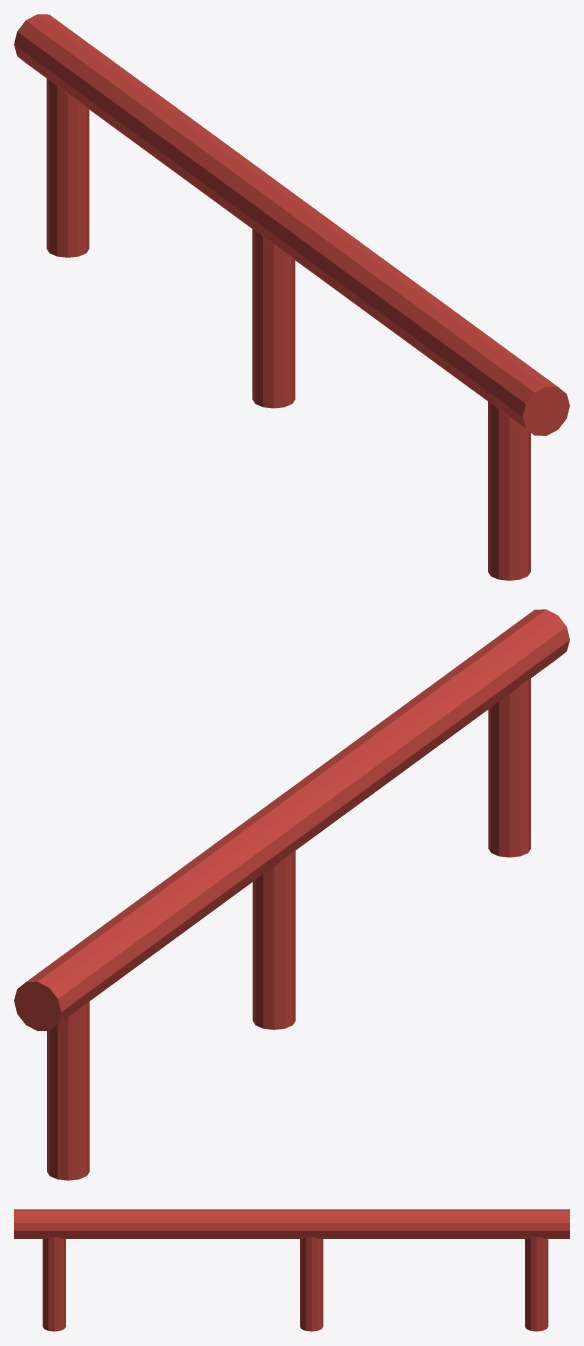
File: Railig.fbx
3 views of the same model, one above another, from view 1: azimuth 30°, elevation 25°; view 2: azimuth 150°, elevation 25°; view 3: azimuth 270°, elevation 25° (orthographic). The views are drawn at different scales.
Parts seen in each view (by area): view 1: Railing; view 2: Railing; view 3: Railing.
Part boxes in pixels (x1,y1,x2,y2): Railing: [14, 14, 569, 580]; Railing: [14, 609, 569, 1180]; Railing: [14, 1209, 569, 1331].
Bounding box in the file's own units: 50.14 × 215 × 935.
